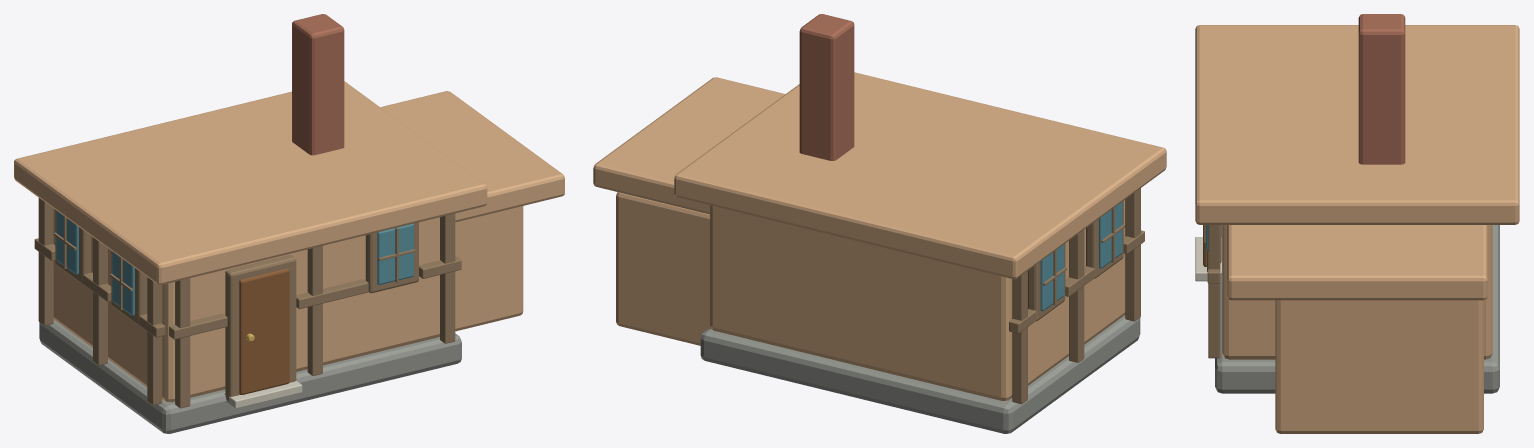
The model's file is arid-cottage-1.glb.
The picture shows the model from 3 angles, left to right: view 1: azimuth 30°, elevation 25°; view 2: azimuth 150°, elevation 25°; view 3: azimuth 270°, elevation 25°; orthographic projection. The views are drawn at different scales.
Parts seen in each view (by area): view 1: Adobe cream, Adobe plaster, Palm beams, Foundation stone, Adobe wood, Chimney brick, Door oak, Blue glass, Cut limestone; view 2: Adobe cream, Adobe plaster, Foundation stone, Adobe wood, Palm beams, Chimney brick, Blue glass; view 3: Adobe cream, Adobe wood, Chimney brick, Adobe plaster, Foundation stone, Palm beams, Cut limestone.
Boxes of the visible parts, <box> form: Adobe cream: <box>14,81,564,284</box>; Adobe plaster: <box>53,209,439,402</box>; Palm beams: <box>34,198,461,408</box>; Foundation stone: <box>39,319,461,433</box>; Adobe wood: <box>455,206,523,331</box>; Chimney brick: <box>292,14,344,155</box>; Door oak: <box>239,268,289,394</box>; Blue glass: <box>56,210,413,315</box>; Cut limestone: <box>224,381,302,408</box>; Adobe cream: <box>593,72,1166,279</box>; Adobe plaster: <box>710,200,1125,400</box>; Foundation stone: <box>700,315,1140,433</box>; Adobe wood: <box>616,192,710,345</box>; Palm beams: <box>1009,188,1144,404</box>; Chimney brick: <box>799,14,854,160</box>; Blue glass: <box>1040,201,1122,311</box>; Adobe cream: <box>1195,25,1519,300</box>; Adobe wood: <box>1275,300,1483,433</box>; Chimney brick: <box>1358,14,1405,164</box>; Adobe plaster: <box>1222,225,1492,359</box>; Foundation stone: <box>1215,225,1499,393</box>; Palm beams: <box>1203,225,1221,358</box>; Cut limestone: <box>1195,237,1221,281</box>.
Bounding box in the file's own units: 4.4 × 3.02 × 2.64.
